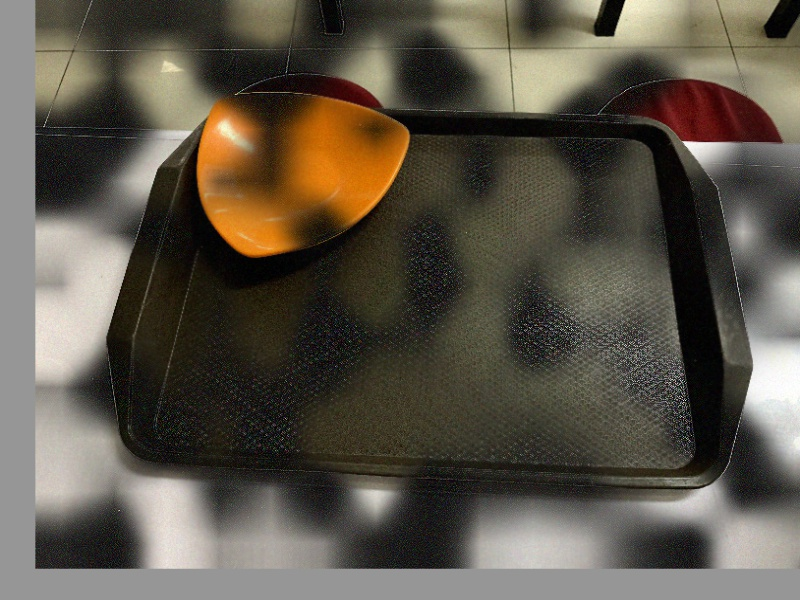dish11: (190, 89, 416, 265)
